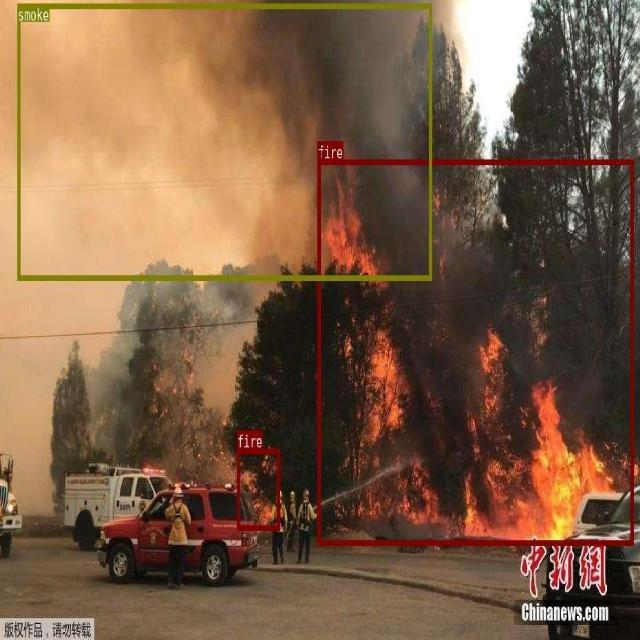fire: (317, 159, 633, 545), (237, 448, 280, 529)
smoke: (17, 3, 431, 280)
